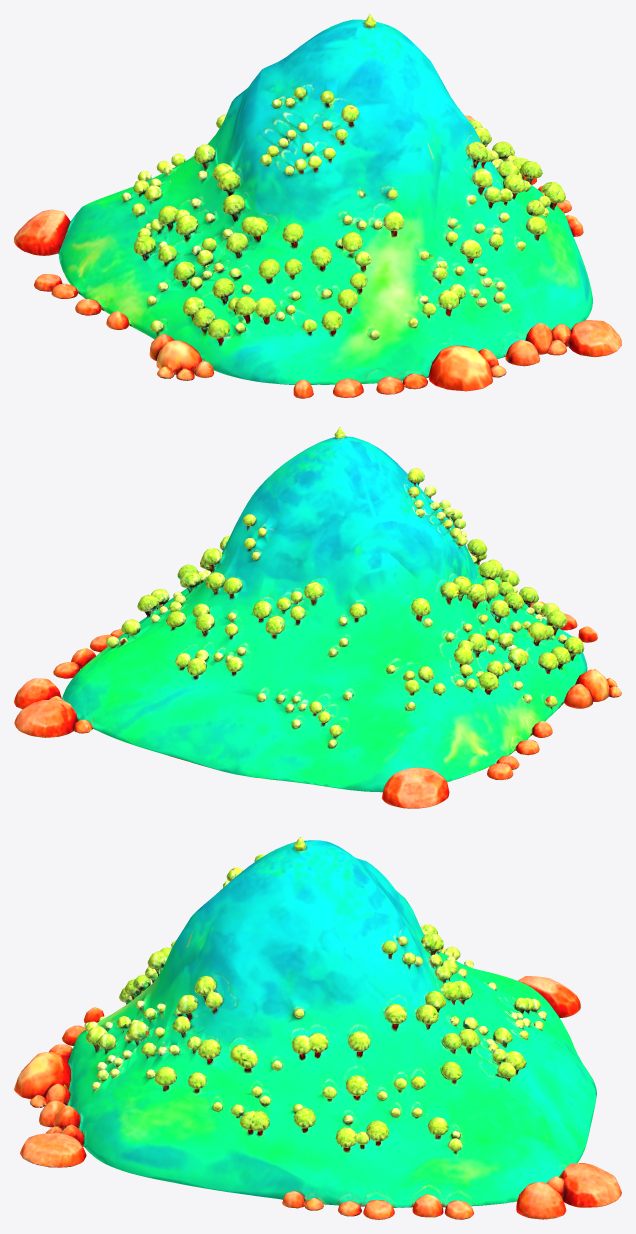
The model's file is ql_hill.glb.
The picture shows the model from 3 angles, top to bottom: view 1: azimuth 30°, elevation 25°; view 2: azimuth 150°, elevation 25°; view 3: azimuth 270°, elevation 25°; orthographic projection. The views are drawn at different scales.
Parts seen in each view (by area): view 1: ql_hill; view 2: ql_hill; view 3: ql_hill.
Boxes of the visible parts, <box> form: ql_hill: <box>14,14,621,398</box>; ql_hill: <box>14,427,621,808</box>; ql_hill: <box>14,837,621,1219</box>.
Size of the model in its own units: 19.47 by 10 by 20.51.
Materials: 1 (1 with a texture image).
